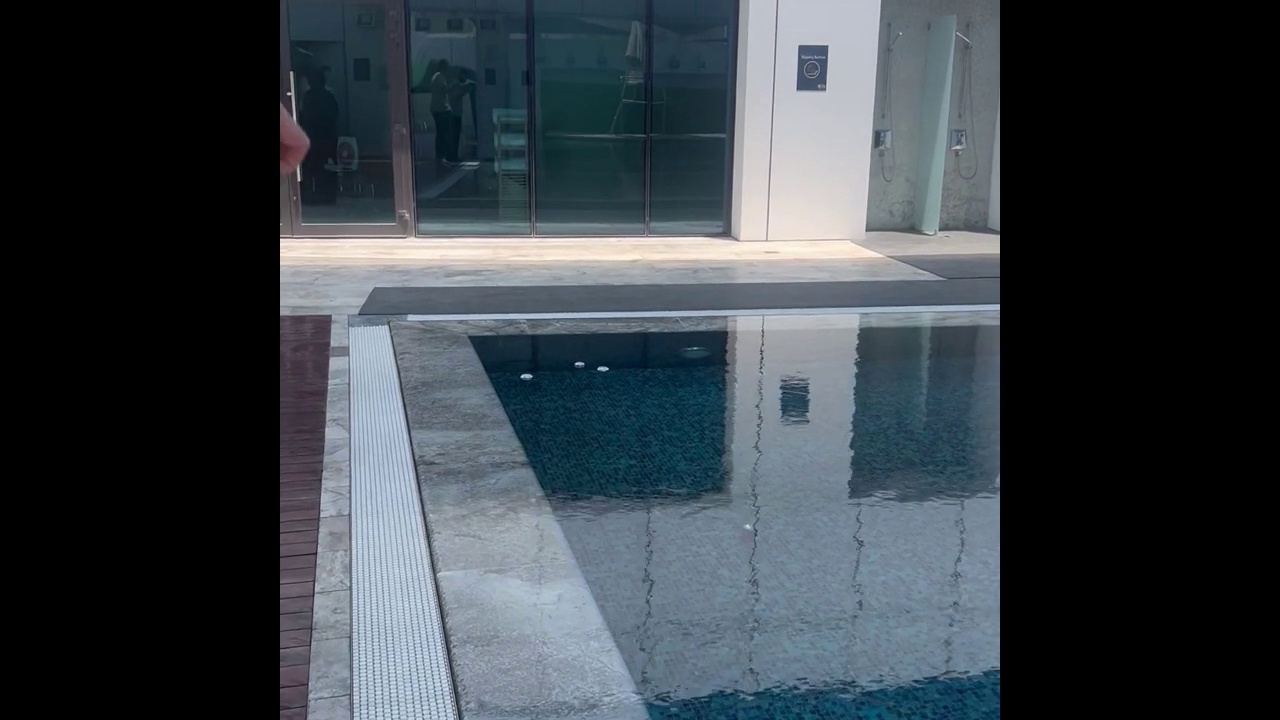debris: (735, 523, 755, 548), (570, 355, 587, 371), (515, 370, 534, 382), (594, 363, 610, 375)
